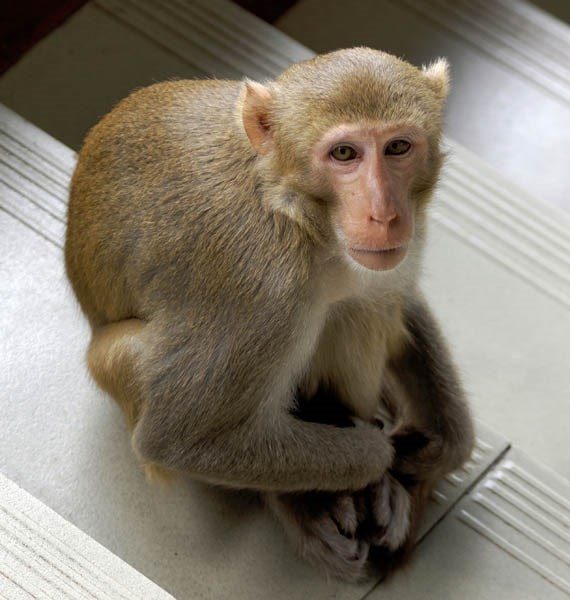monkey: (46, 36, 482, 579)
